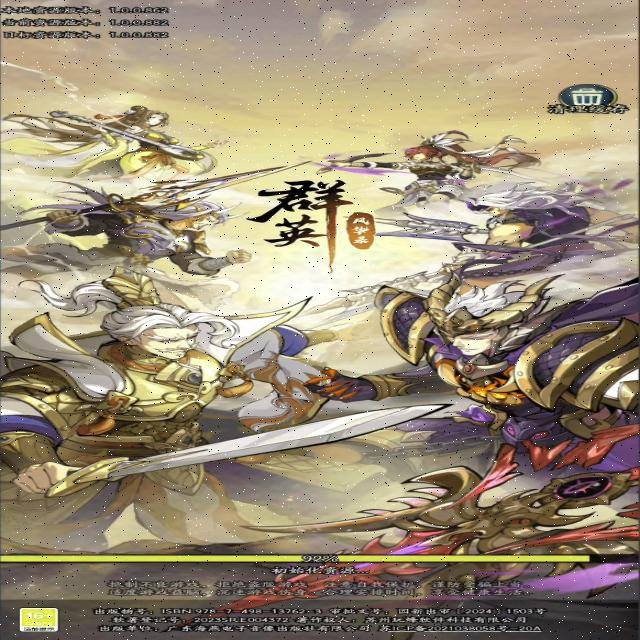system-cleanUpCache: (548, 85, 628, 116)
